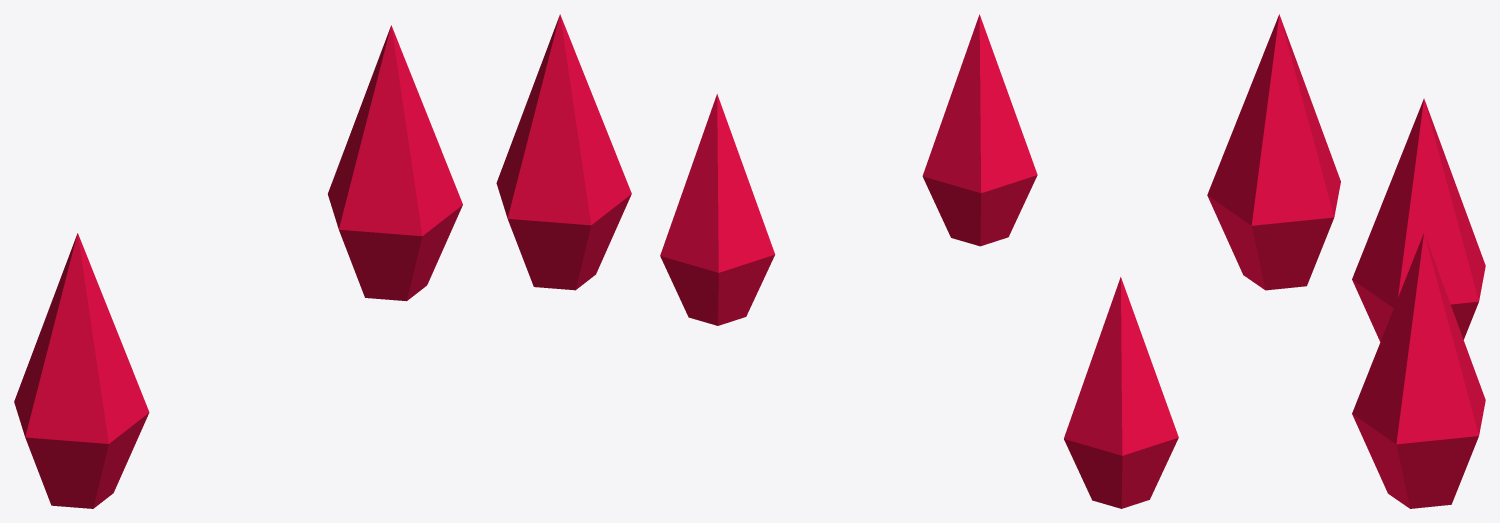
File: flames2.glb
3 views of the same model, side by side, from view 1: azimuth 30°, elevation 25°; view 2: azimuth 150°, elevation 25°; view 3: azimuth 270°, elevation 25° (orthographic). The views are drawn at different scales.
Parts seen in each view (by area): view 1: Flames2; view 2: Flames2; view 3: Flames2.
Boxes of the visible parts, bbox=[...] form: Flames2: bbox=[14, 14, 631, 508]; Flames2: bbox=[660, 14, 1178, 508]; Flames2: bbox=[1207, 14, 1485, 508].
Size of the model in its own units: 0.6233 by 0.46 by 0.2502.
